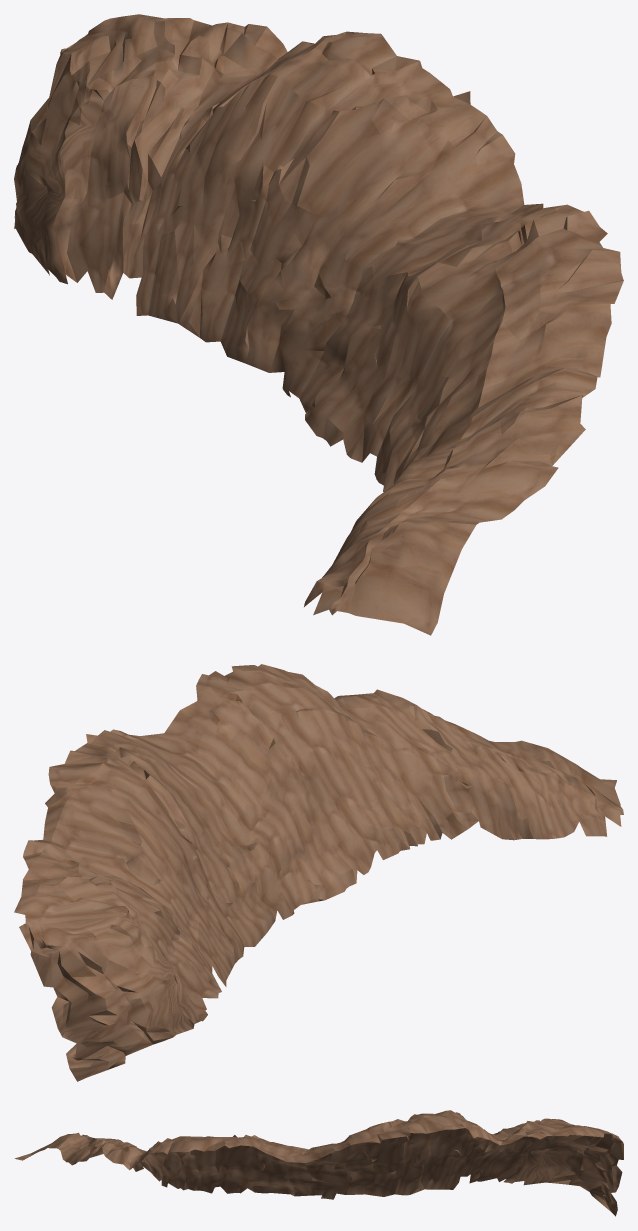
Rendered from SM_ENV_LKNVLD_FaceRock_BG_A_04.FBX.
3 renders of one model, top to bottom at view 1: azimuth 30°, elevation 25°; view 2: azimuth 150°, elevation 25°; view 3: azimuth 270°, elevation 25°, orthographic. The views are drawn at different scales.
Visible parts, largest first — view 1: SM_ENV_LKNVLD_FaceRock_BG_A_04; view 2: SM_ENV_LKNVLD_FaceRock_BG_A_04; view 3: SM_ENV_LKNVLD_FaceRock_BG_A_04.
Boxes of the visible parts, left/top/right/bottom form: SM_ENV_LKNVLD_FaceRock_BG_A_04: left=14, top=14, right=623, bottom=635; SM_ENV_LKNVLD_FaceRock_BG_A_04: left=14, top=664, right=623, bottom=1081; SM_ENV_LKNVLD_FaceRock_BG_A_04: left=14, top=1110, right=623, bottom=1216.
Bounding box in the file's own units: 22786 × 12923 × 51415.
